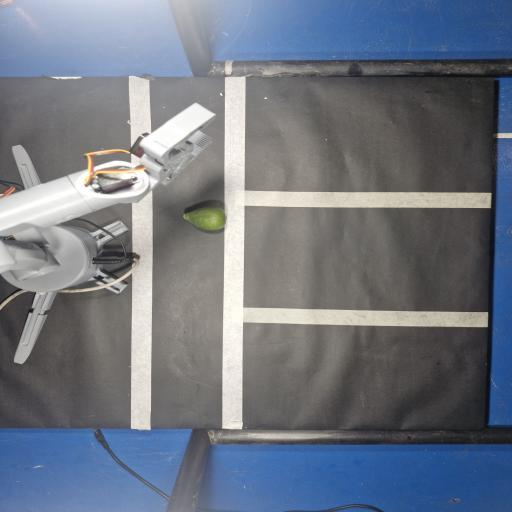higo: (184, 207, 226, 230)
